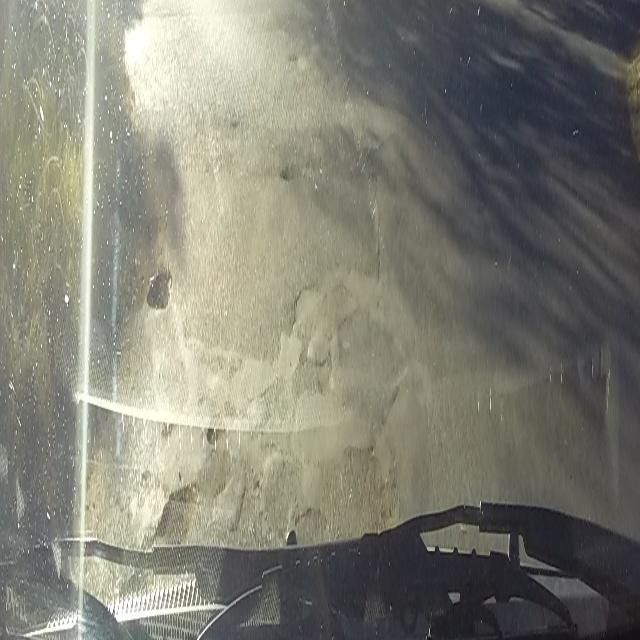pothole: (154, 481, 200, 548), (146, 260, 172, 314), (206, 419, 219, 444)
